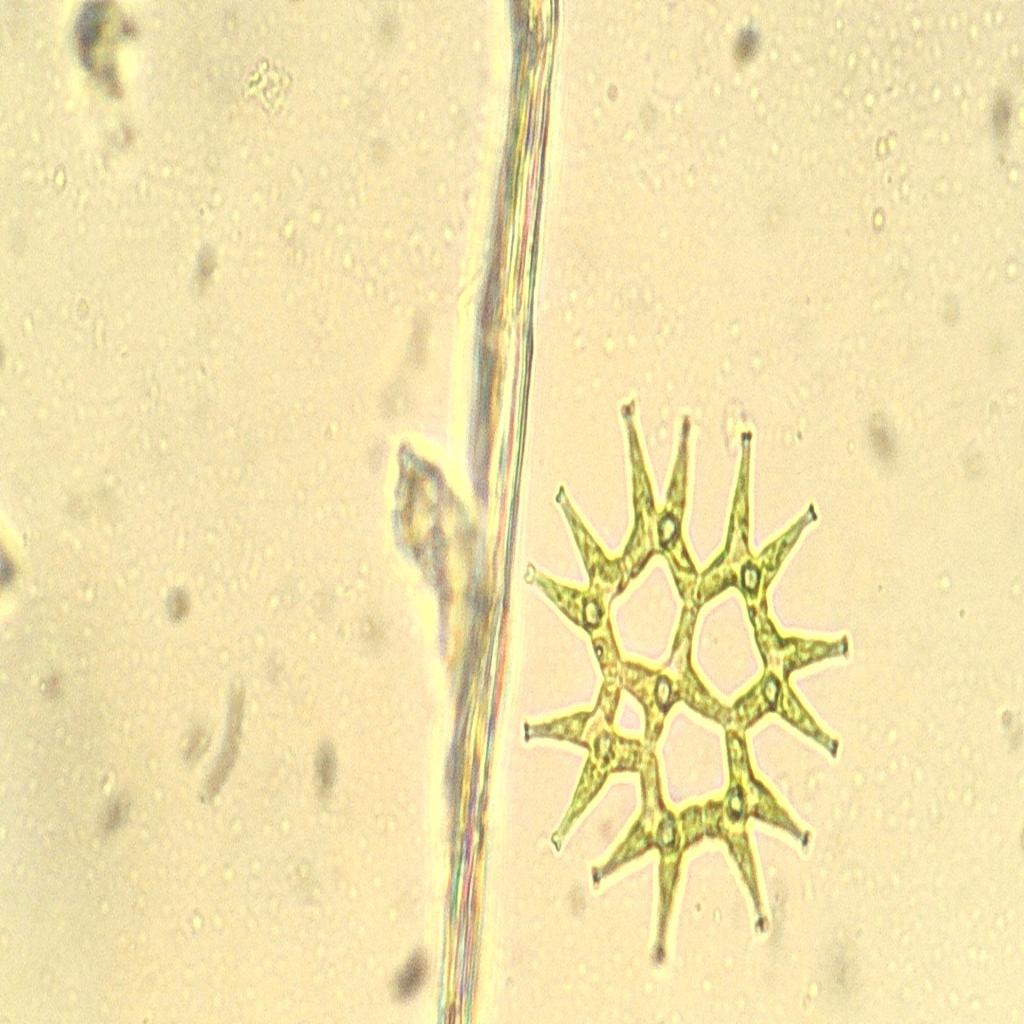Pediastrum_75T: (518, 374, 858, 990)
